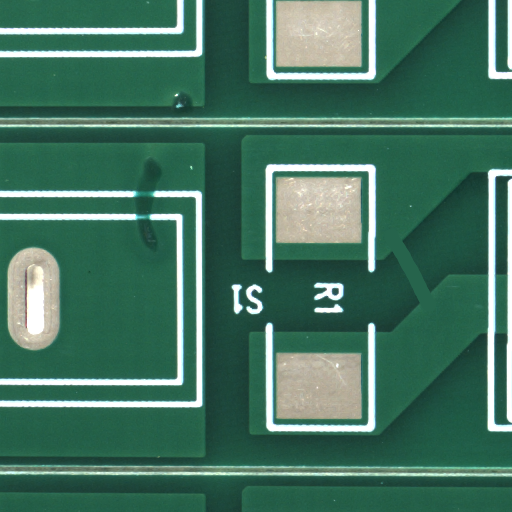Short: (409, 276, 463, 351)
